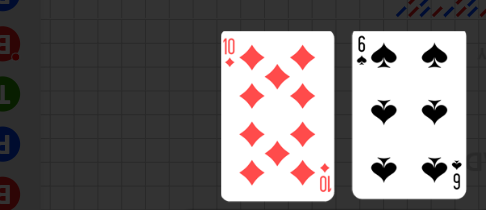10D: (223, 36, 237, 69)
6S: (450, 157, 463, 191)
